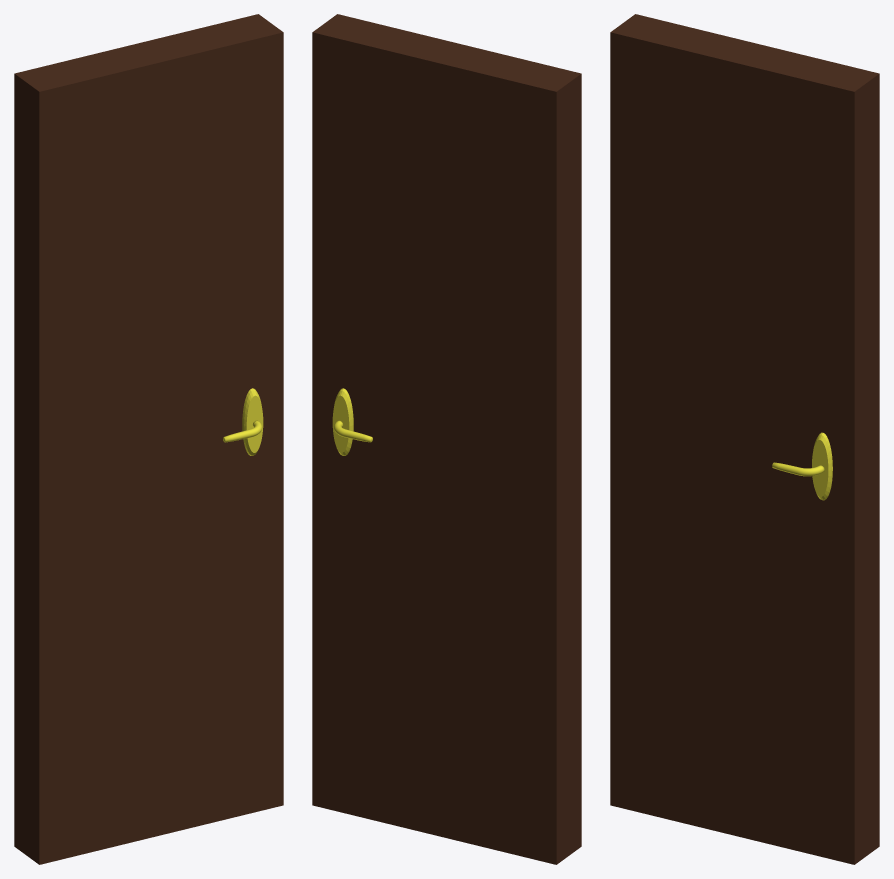
Rendered from puerta.fbx.
3 views of the same model, side by side, from view 1: azimuth 30°, elevation 25°; view 2: azimuth 150°, elevation 25°; view 3: azimuth 330°, elevation 25° (orthographic).
Visible parts, largest first — view 1: Puerta; view 2: Puerta; view 3: Puerta.
Boxes of the visible parts, x1,y1,x2,y2 form: Puerta: (14, 14, 283, 864); Puerta: (312, 14, 581, 864); Puerta: (610, 14, 879, 864).
Bounding box in the file's own units: 64.55 × 195 × 23.29.
